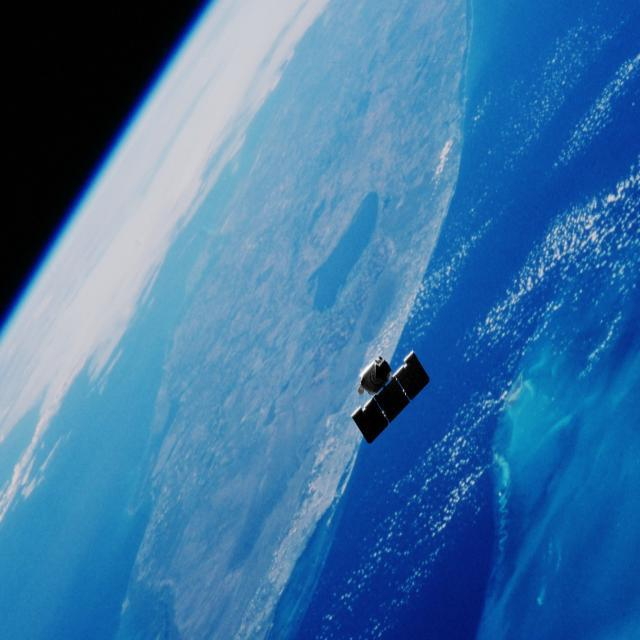satellite: (336, 347, 455, 449)
